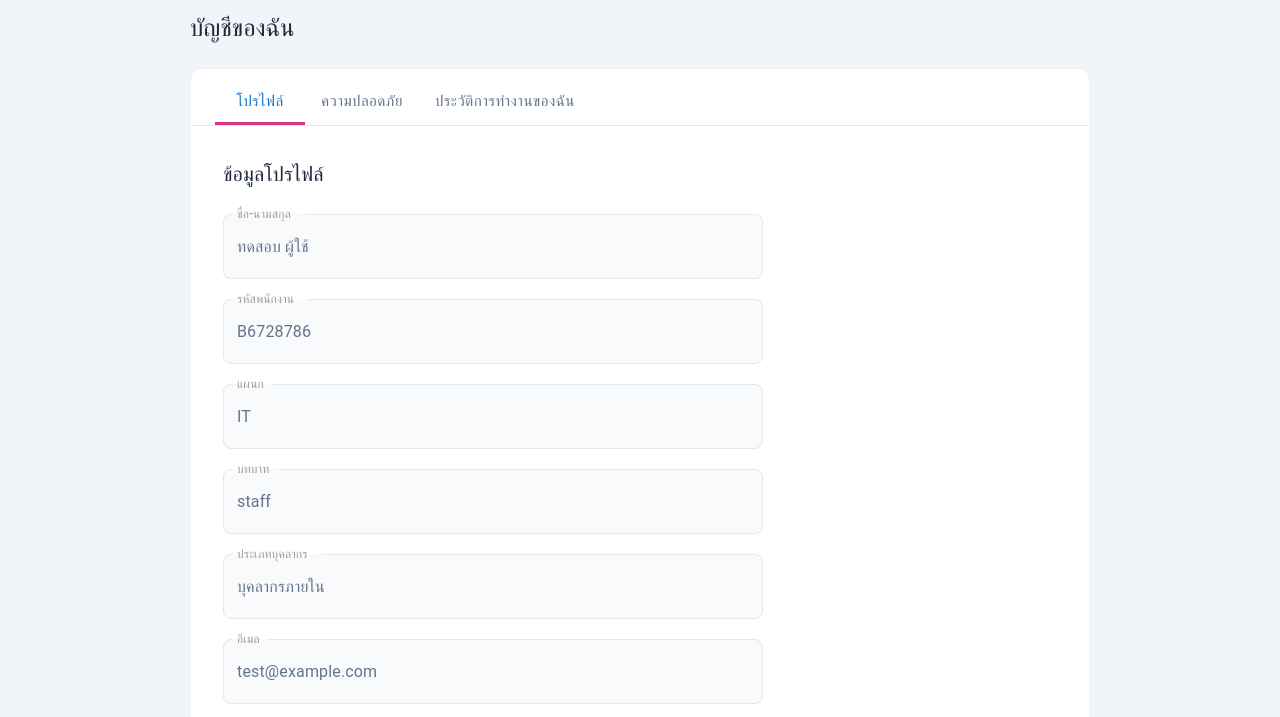
Test: EmployeeAccountPage — ActivityTab › shows empty state when no activity
This screenshot has width=1280, height=717.
What coordinates should you click on to do the following:
click the tab "ประวัติการทำงานของฉัน"
I would click on:
 (505, 101)
Its box is x1=419 y1=77 x2=591 y2=125.
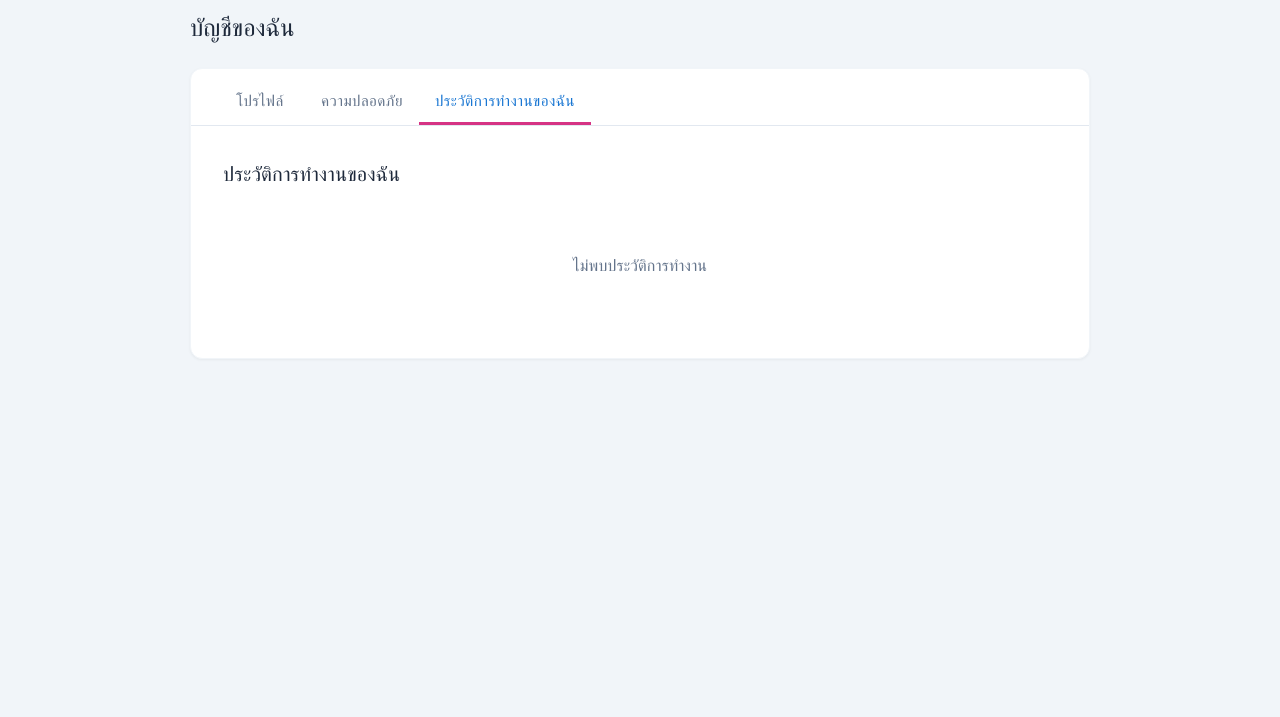
Result: the text "ไม่พบประวัติการทำงาน" is shown at x1=573 y1=256 x2=707 y2=275
